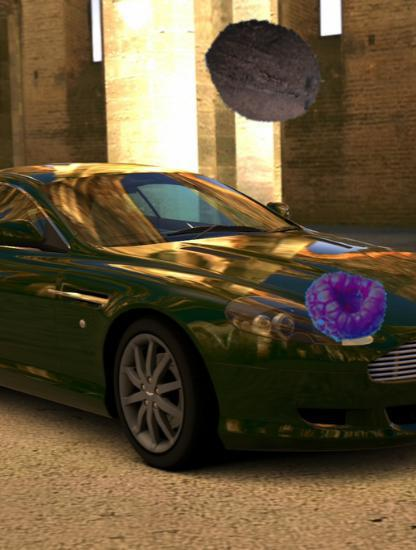Cocos: (202, 9, 325, 132)
Raspberry: (304, 263, 389, 348)
